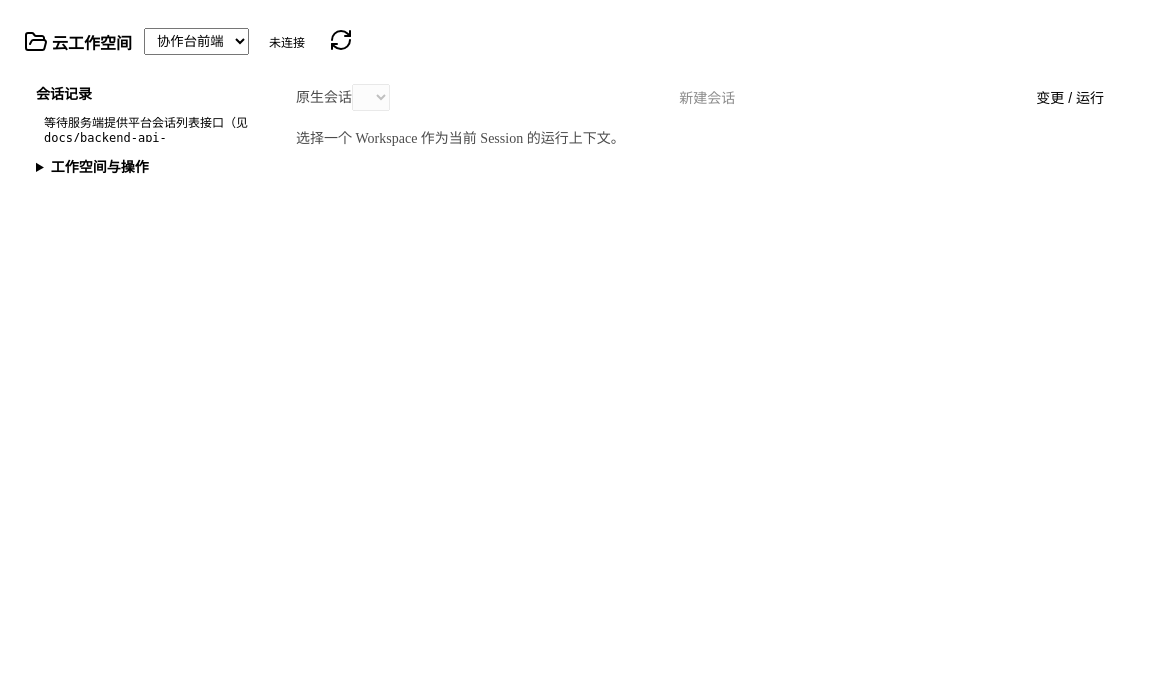
it: 1-6 恢复中心插件面 › 集中呈现失败运行、挂起审批、stale 与未同步变更，并按四类动作呈现
Step 1. Click the button with aria-label "打开变更与运行面板" → {"x": 1070, "y": 97}, box [1024,83,1116,111]
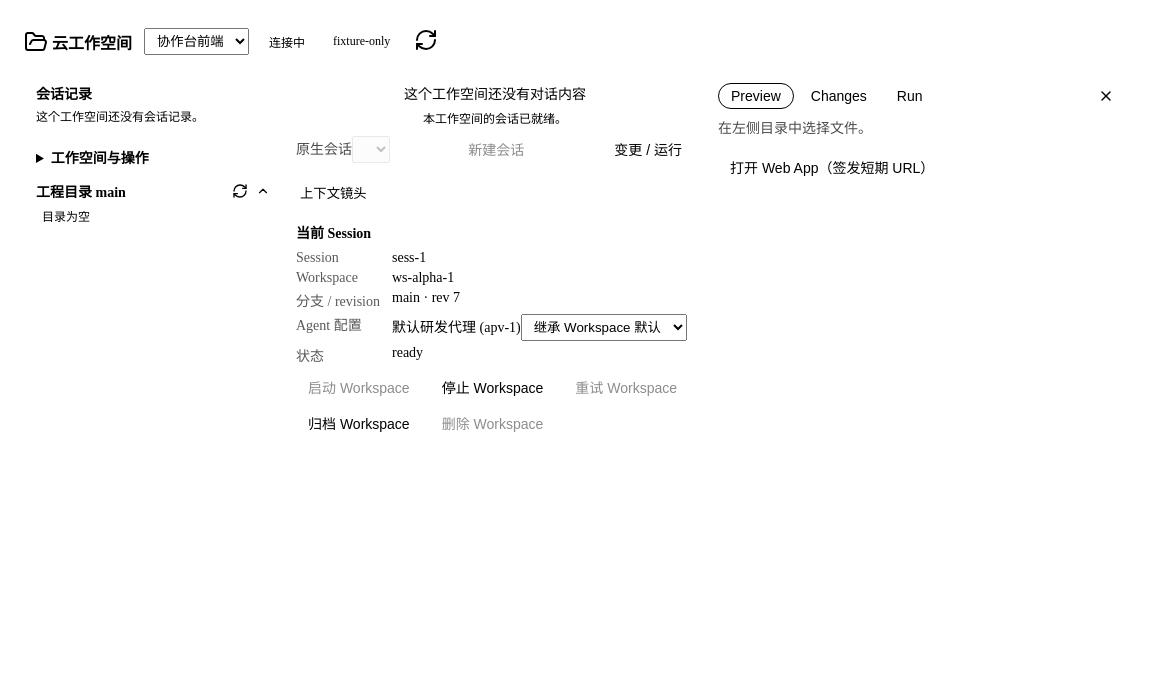
Step 2. Click the tab "Run" → {"x": 910, "y": 96}, box [884,83,936,109]
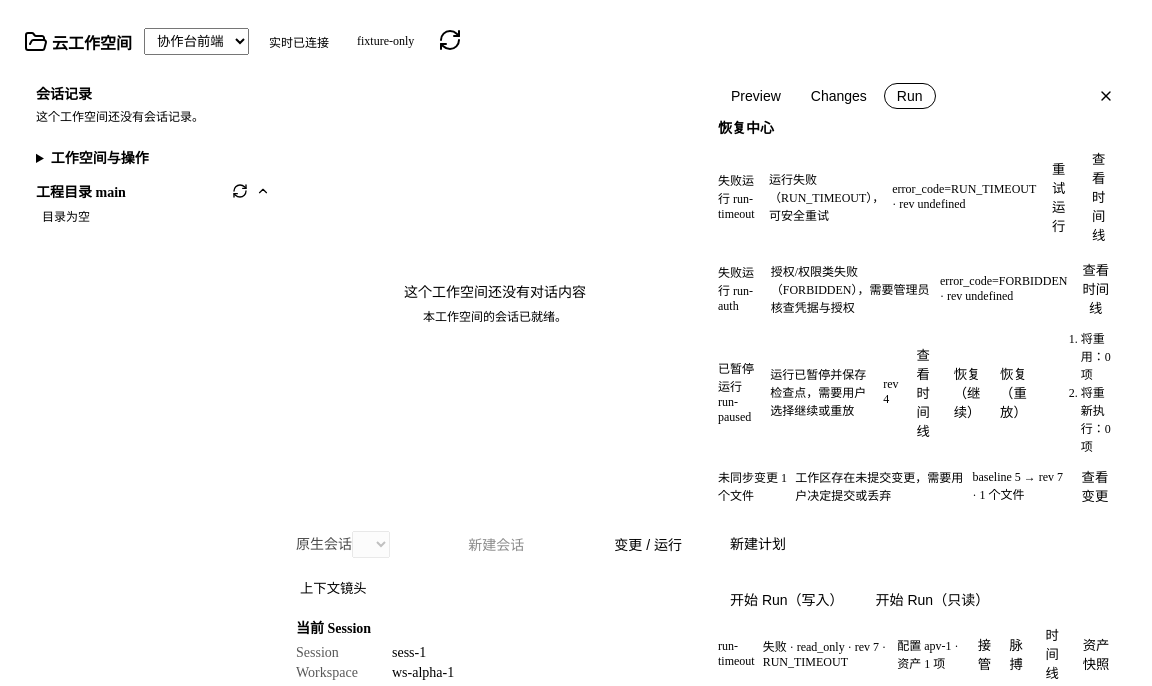
Check: the text "恢复中心" is shown, box [718,121,774,136]
Check: the list item "失败运行 run-timeout" shows "RUN_TIMEOUT", box [769,172,884,222]
Check: the button "恢复（继续）" is shown, box [948,360,986,424]
